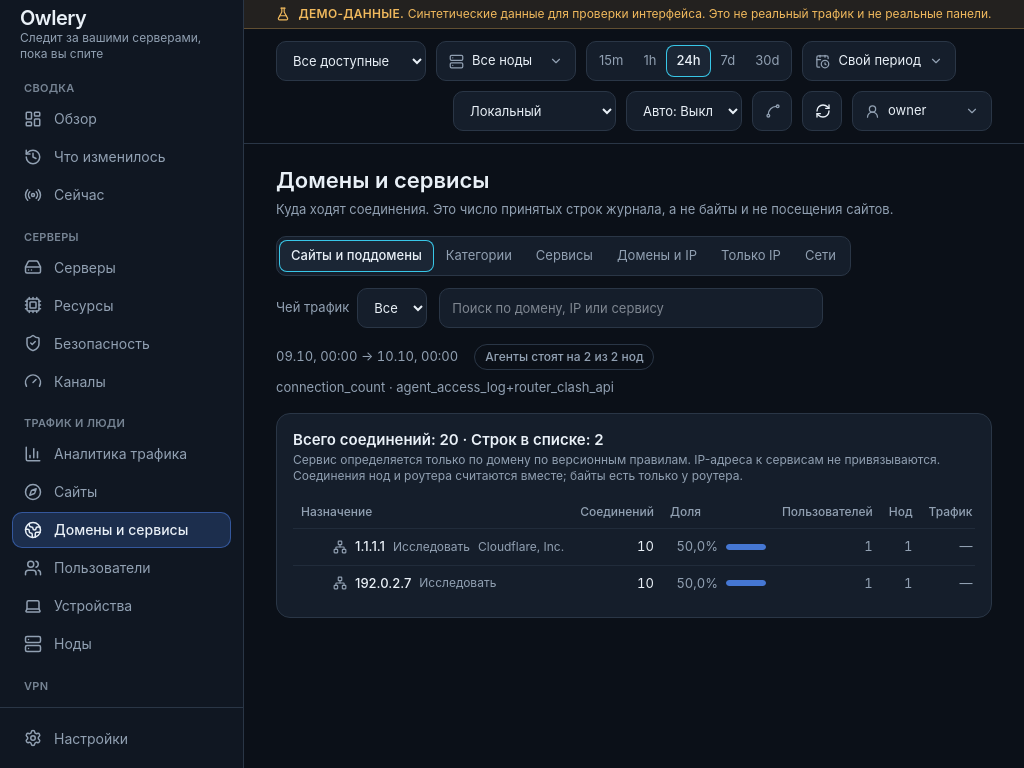
Scenario: domains: who owns a bare IP › names the owner next to an address, and groups bare IPs by owner on the Networks tab
Step 1. Click the button "Только IP" → (751, 256), box top-left (709, 240), bottom-right (793, 272)
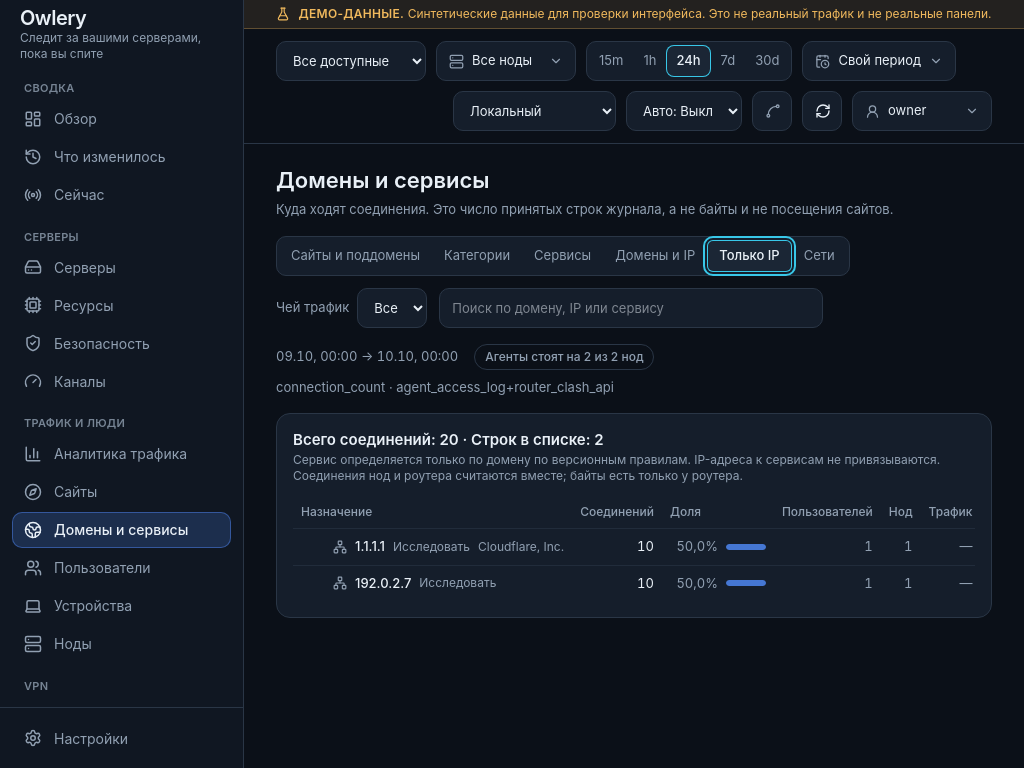
Expected: the text "Cloudflare, Inc." is shown, top-left (478, 539), bottom-right (564, 555)
Step 2. Click the button "Сети" → (819, 256), box top-left (792, 240), bottom-right (847, 272)
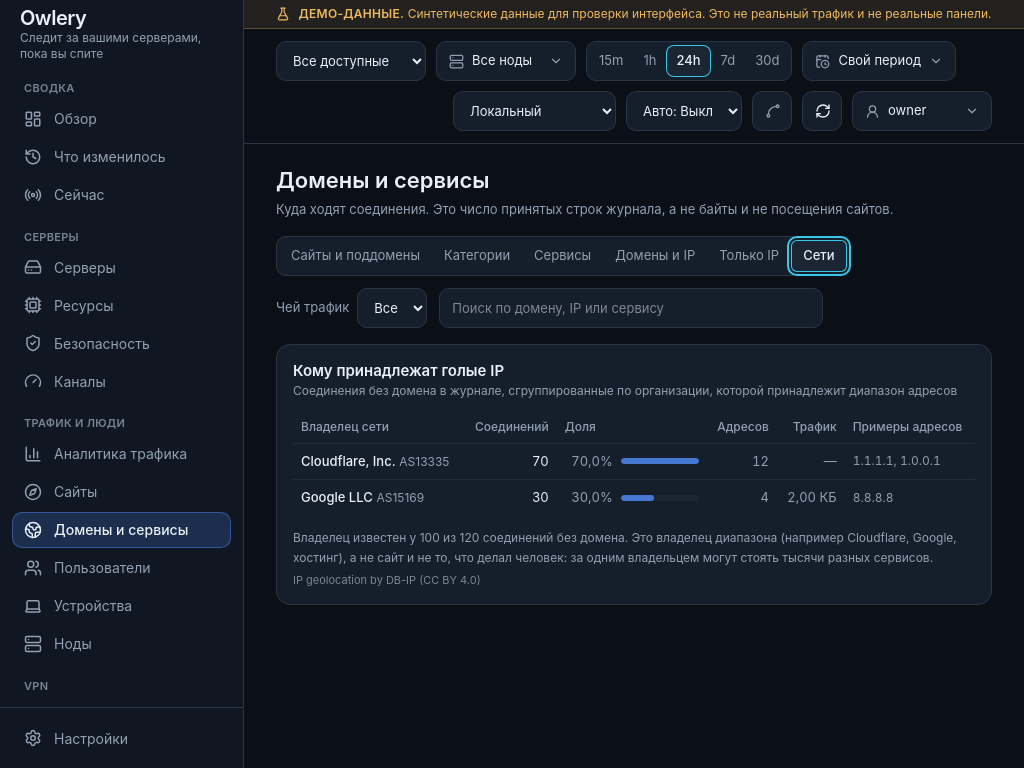
Result: the text "Google LLC" is shown at top-left (301, 489), bottom-right (373, 505)
Result: the text "AS15169" is shown at top-left (376, 490), bottom-right (424, 505)
Result: the text "Владелец известен у 100 из 120 соединений без домена" is shown at top-left (293, 530), bottom-right (628, 544)
